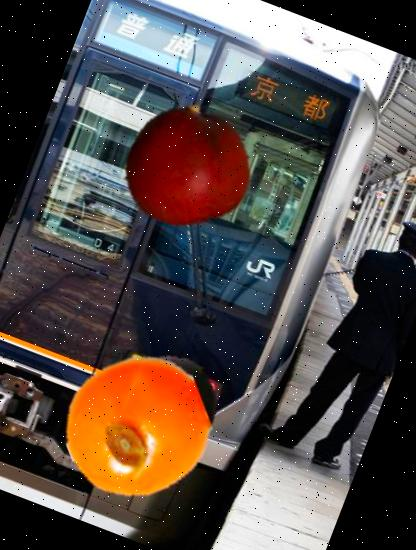Nectarine: (103, 83, 268, 248)
Physalis: (43, 336, 228, 522)
Plum: (116, 336, 240, 460)
